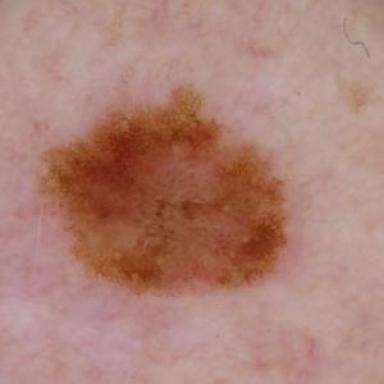Melanoma: (43, 85, 286, 294)
